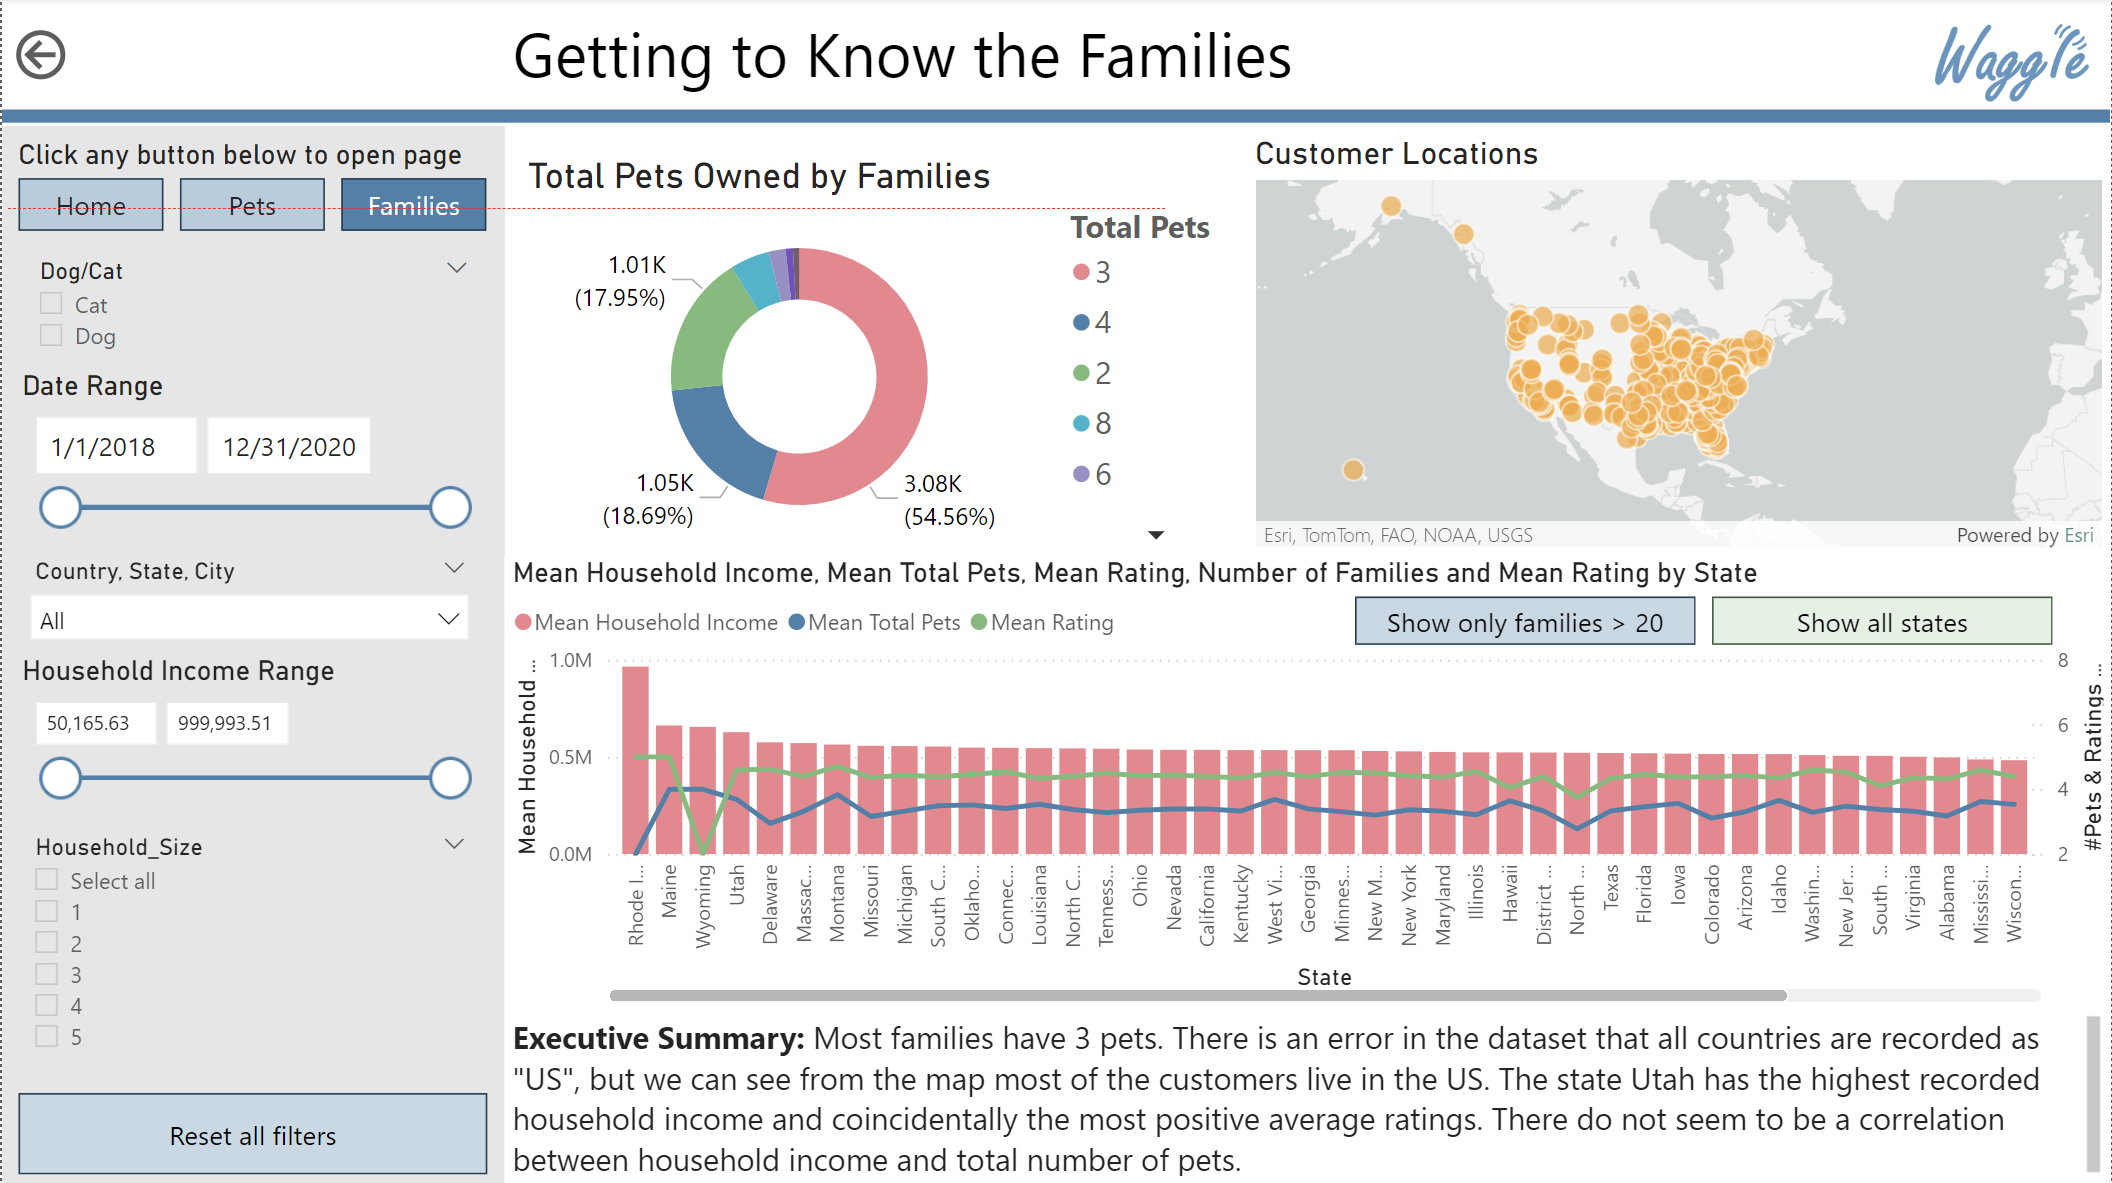

Layout of this report page (visuals, bound fields, positions):
{"tool":"powerbi","page":{"name":"Families","canvas":[1280,720],"ordinal":2},"visuals":[{"type":"shape","box":[0,76.3,305.3,643.3],"z":0},{"type":"donutChart","title":"Total Pets Owned by Families","fields":{"Y":["CountNonNull(Family_Data.Total_Pets)"],"Category":["Family_Data.Total_Pets"]},"box":[313.9,95.3,442.1,243.1],"z":1000},{"type":"map","title":"Customer Locations","fields":{"Category":["Family_Data.Location"]},"box":[756,83.1,524,255.3],"z":2000},{"type":"actionButton","box":[3.3,14.9,99.5,39.8],"z":3000},{"type":"actionButton","box":[9.6,664.5,284.6,49.4],"z":4000},{"type":"image","box":[1159.8,2.7,119.9,73.6],"z":5000},{"type":"shape","box":[0,65.4,1279.7,12.3],"z":6000},{"type":"textbox","box":[305.1,2.4,974.5,62.7],"z":7000},{"type":"lineClusteredColumnComboChart","fields":{"Y":["Avg(Family_Data.Household_Income)"],"Y2":["Avg(Family_Data.Total_Pets)","Avg(Rating_Data.Rating)"],"Category":["Family_Data.State"]},"box":[305.2,338,975.4,275.2],"z":8000},{"type":"textbox","box":[305.2,613.2,974,107],"z":9000},{"type":"actionButton","box":[821.4,363.6,206.9,29.4],"z":10000},{"type":"actionButton","box":[1038.1,363.6,206.9,29.4],"z":11000},{"type":"pageNavigator","title":"Click any button below to open page","box":[9.6,84.4,284.6,56.7],"z":12000},{"type":"slicer","fields":{"Values":["Pet_Data.Dog/Cat"]},"box":[9.8,151.7,285,73.4],"z":13000},{"type":"slicer","title":"Date Range","fields":{"Values":["Date_Table.Date"]},"box":[7.3,225.1,286.2,105.2],"z":14000},{"type":"slicer","fields":{"Values":["Family_Data.Country","Family_Data.State","Family_Data.City"]},"box":[7.3,333.9,286.2,74.6],"z":15000},{"type":"slicer","title":"Household Income Range","fields":{"Values":["Family_Data.Household_Income"]},"box":[7.3,397.6,286.2,104],"z":16000},{"type":"slicer","fields":{"Values":["Family_Data.Household_Size"]},"box":[7.3,501.5,286.2,150.5],"z":17000}]}

Visuals, with their boxes in screenshot pixels (x1, y1, x2, y2), scaled from the page's 1280x720 canvas onto the 2112x1183 screenshot:
shape: (0, 125, 504, 1182)
"Total Pets Owned by Families" donutChart: (518, 157, 1247, 556)
"Customer Locations" map: (1247, 137, 2111, 556)
actionButton: (5, 24, 170, 90)
actionButton: (16, 1092, 485, 1173)
image: (1914, 4, 2111, 125)
shape: (0, 107, 2111, 128)
textbox: (503, 4, 2111, 107)
lineClusteredColumnComboChart - Avg(Family_Data.Household_Income) x Avg(Family_Data.Total_Pets): (504, 555, 2111, 1008)
textbox: (504, 1008, 2111, 1182)
actionButton: (1355, 597, 1697, 646)
actionButton: (1713, 597, 2054, 646)
"Click any button below to open page" pageNavigator: (16, 139, 485, 232)
slicer - Pet_Data.Dog/Cat: (16, 249, 486, 370)
"Date Range" slicer: (12, 370, 484, 543)
slicer - Family_Data.Country x Family_Data.State: (12, 549, 484, 671)
"Household Income Range" slicer: (12, 653, 484, 824)
slicer - Family_Data.Household_Size: (12, 824, 484, 1071)
